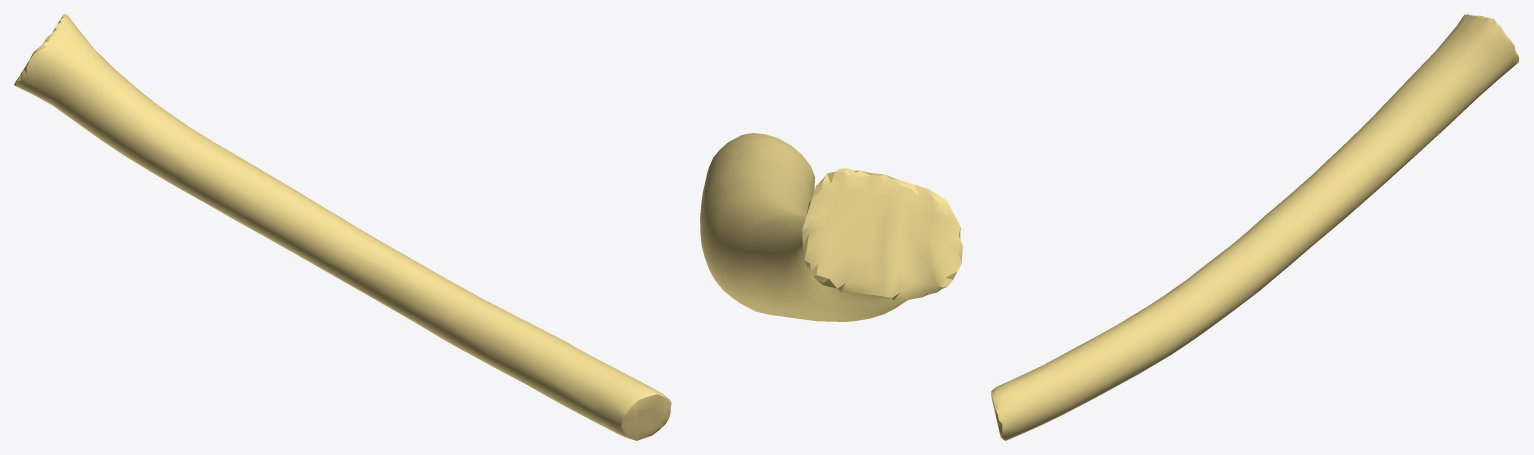
The model's file is fma50878_fj7501m.glb.
The picture shows the model from 3 angles, left to right: view 1: azimuth 30°, elevation 25°; view 2: azimuth 150°, elevation 25°; view 3: azimuth 270°, elevation 25°; orthographic projection. The views are drawn at different scales.
Parts seen in each view (by area): view 1: FMA50878_FJ7501M; view 2: FMA50878_FJ7501M; view 3: FMA50878_FJ7501M.
Boxes of the visible parts, <box> form: FMA50878_FJ7501M: <box>14,14,671,440</box>; FMA50878_FJ7501M: <box>700,133,962,321</box>; FMA50878_FJ7501M: <box>991,14,1519,440</box>.
Bounding box in the file's own units: 0.0275 × 0.0202 × 0.0347.
